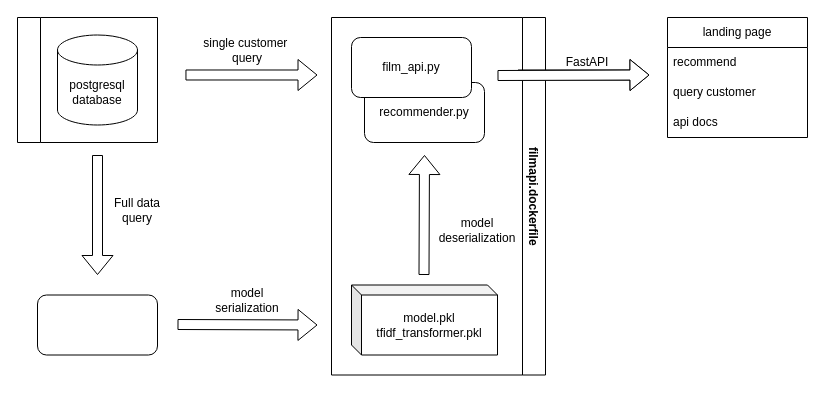
This 825x393 diagram has some shape labels left out. The centre of each missing label's shape, as x and y in pixels:
pagiladb.dockerfile: point (87, 79)
train_model.py: point (97, 324)
